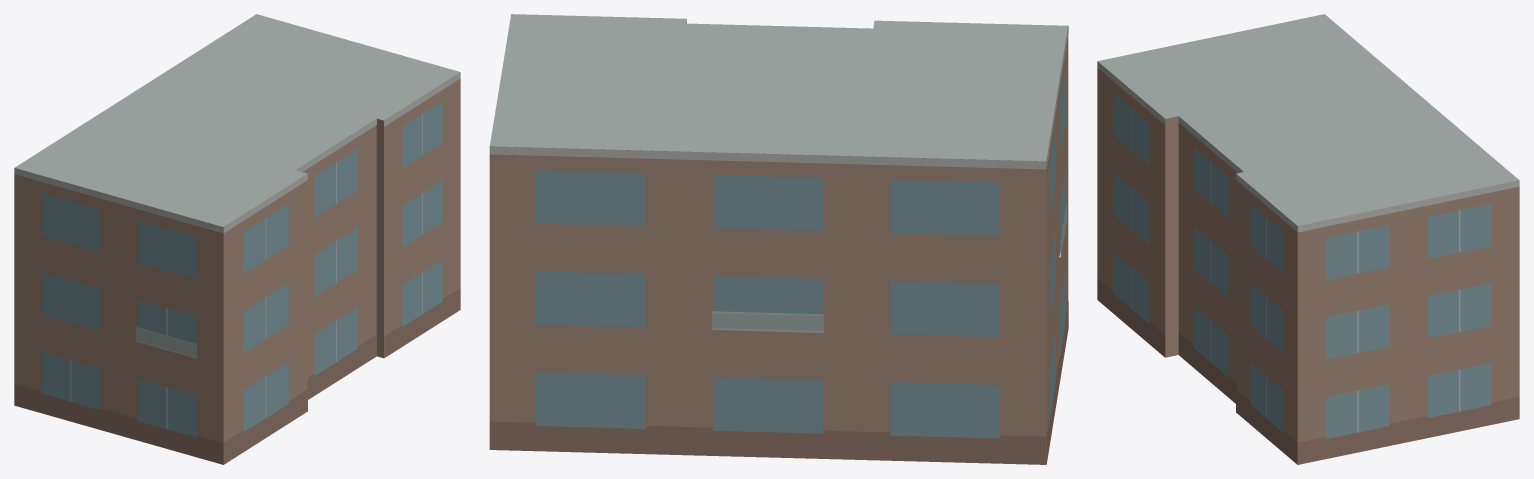
The model's file is survey-upis-32806293.glb.
3 views of the same model, side by side, from view 1: azimuth 30°, elevation 25°; view 2: azimuth 150°, elevation 25°; view 3: azimuth 270°, elevation 25° (orthographic). The views are drawn at different scales.
Parts seen in each view (by area): view 1: survey-upis-32806293.tmp; view 2: survey-upis-32806293.tmp; view 3: survey-upis-32806293.tmp.
Part boxes in pixels (box(x1,y1,x2,y2)): survey-upis-32806293.tmp: box(14, 14, 460, 464); survey-upis-32806293.tmp: box(489, 14, 1068, 464); survey-upis-32806293.tmp: box(1097, 14, 1519, 464).
Bounding box in the file's own units: 17.44 × 9.15 × 14.67.
